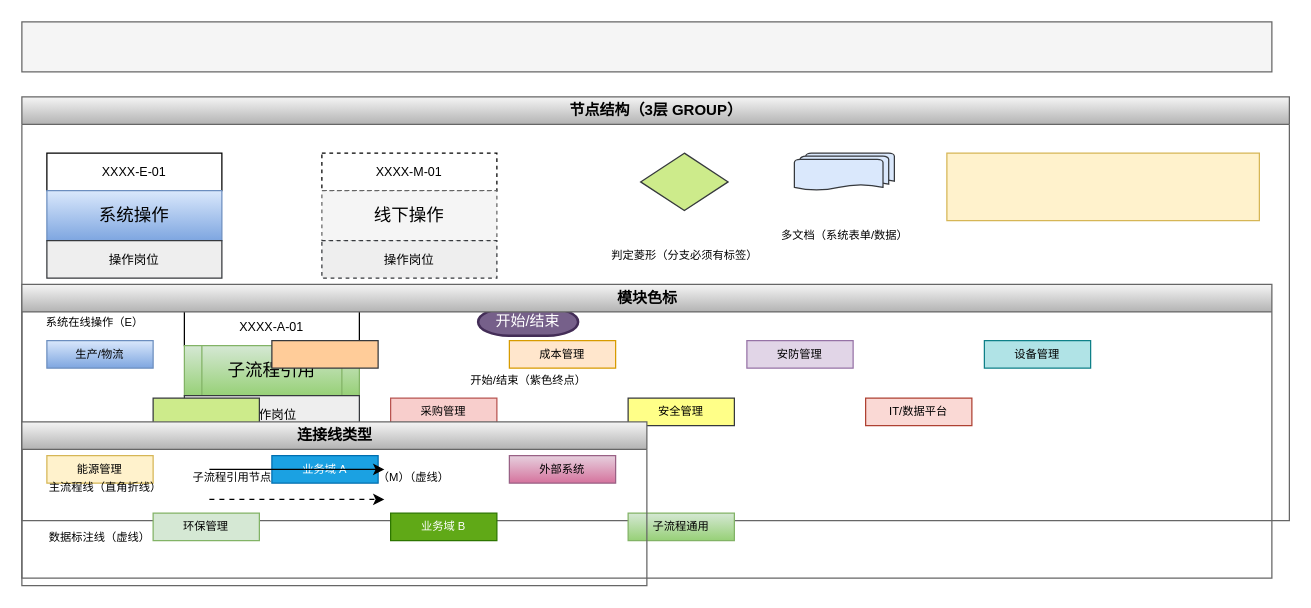
Some shapes in this 1311 by 608 pixel diagram are drawn without their labels. The shapes that lost their labels are listed below. From the top down, each one's centre as x and y in pixels, then its label:
the point at 646,46: 流程图绘制规范 · wl-skills-design v1.0
the point at 683,181: 逻辑判定
the point at 843,171: 系统表单/数据
the point at 1102,186: 编码：[流程编码]-[操作类型]-[NN] 例：ORD-A-01-E-01 E=系统 C=外部系统 M=人工
the point at 324,353: 销售/营销
the point at 205,411: 质量管理
